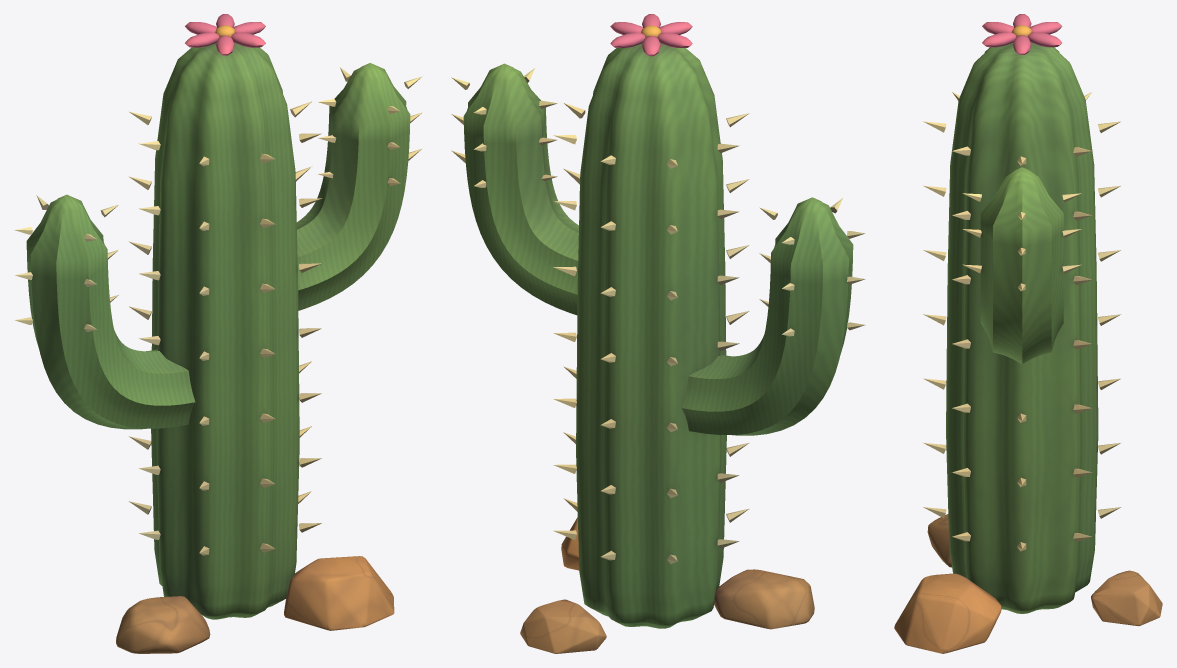
Rendered from SD_P02_Cactus_Tall.fbx.
3 views of the same model, side by side, from view 1: azimuth 30°, elevation 25°; view 2: azimuth 150°, elevation 25°; view 3: azimuth 270°, elevation 25° (orthographic). The views are drawn at different scales.
Parts seen in each view (by area): view 1: Cactus_Tall; view 2: Cactus_Tall; view 3: Cactus_Tall.
Part boxes in pixels (left/top/right/bottom): Cactus_Tall: left=14, top=14, right=422, bottom=653; Cactus_Tall: left=451, top=14, right=865, bottom=653; Cactus_Tall: left=894, top=14, right=1162, bottom=653.
Size of the model in its own units: 1.19 by 1.59 by 0.6811.
